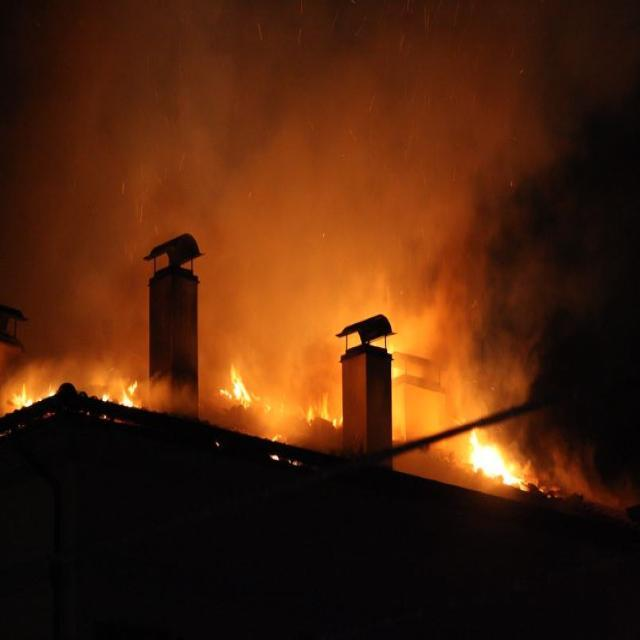Fire: (467, 427, 526, 492), (216, 359, 261, 409), (306, 392, 343, 428), (10, 380, 34, 412), (120, 380, 138, 410), (270, 453, 300, 468), (254, 392, 272, 412), (102, 414, 124, 424), (47, 382, 59, 399), (272, 430, 288, 442), (101, 388, 112, 404), (34, 393, 44, 402)
Smoke: (393, 1, 559, 393), (199, 0, 345, 366), (44, 0, 150, 381), (345, 0, 393, 321), (150, 0, 200, 244), (556, 448, 625, 507)
